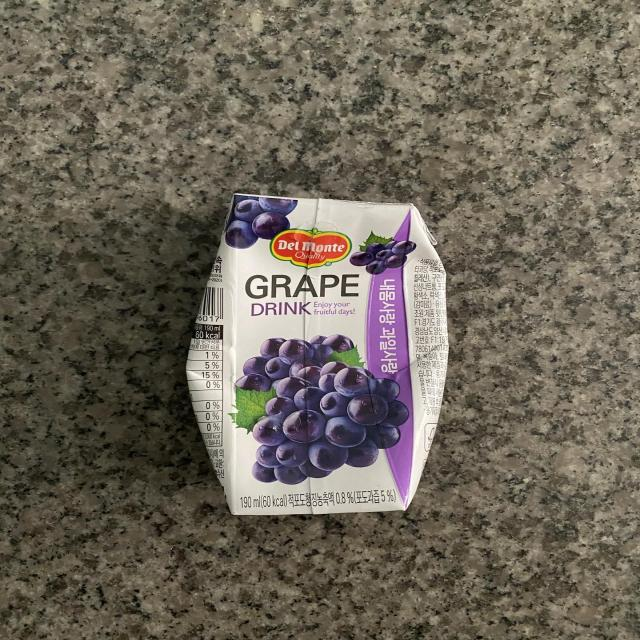paperpack: (186, 194, 448, 516)
